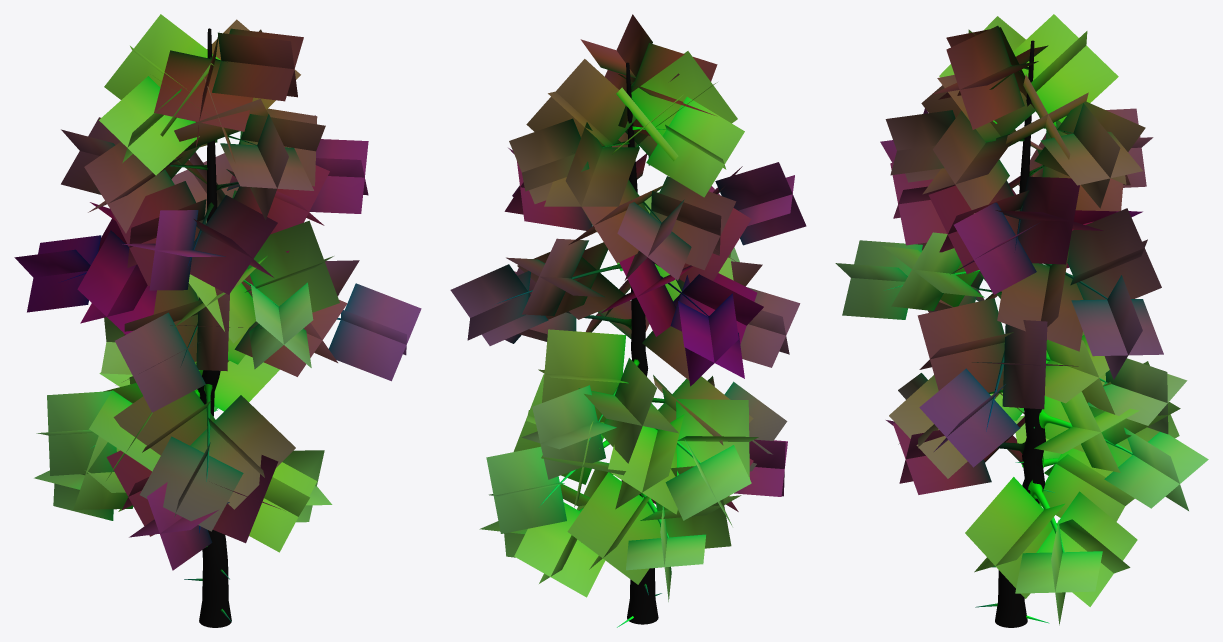
The model's file is URP_P7_Tree_4_LOD_0.fbx.
The picture shows the model from 3 angles, left to right: view 1: azimuth 30°, elevation 25°; view 2: azimuth 150°, elevation 25°; view 3: azimuth 270°, elevation 25°; orthographic projection. The views are drawn at different scales.
Parts seen in each view (by area): view 1: Tree_4_LOD_0; view 2: Tree_4_LOD_0; view 3: Tree_4_LOD_0.
Boxes of the visible parts, x1,y1,x2,y2 form: Tree_4_LOD_0: (14,14,421,627); Tree_4_LOD_0: (450,14,806,627); Tree_4_LOD_0: (835,14,1208,627).
Bounding box in the file's own units: 279 × 478 × 273.
